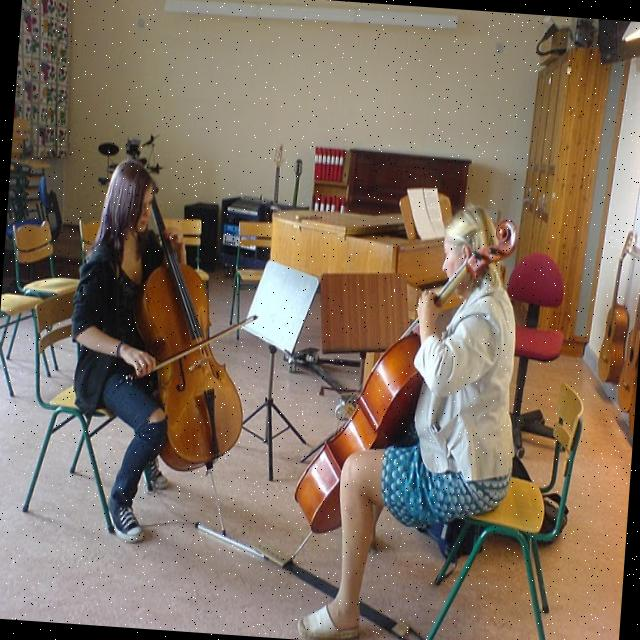cello: (288, 204, 518, 546), (120, 178, 258, 478)
drums: (97, 128, 164, 184)
guitar: (594, 225, 636, 388), (612, 264, 640, 439), (268, 140, 286, 218), (288, 158, 305, 212)
